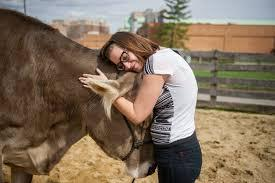cow: (0, 7, 158, 183)
